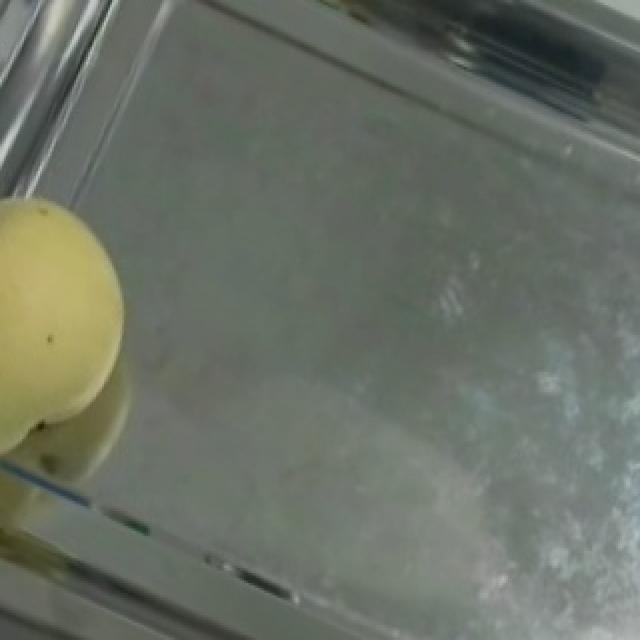Fruit: (0, 156, 170, 449)
